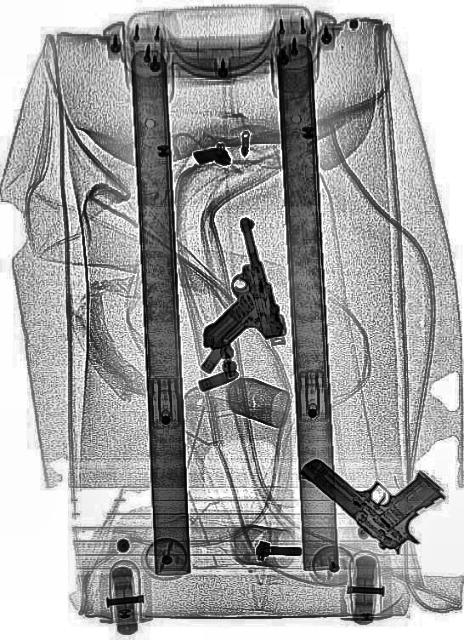Gun: (295, 400, 446, 570), (176, 211, 286, 367)
